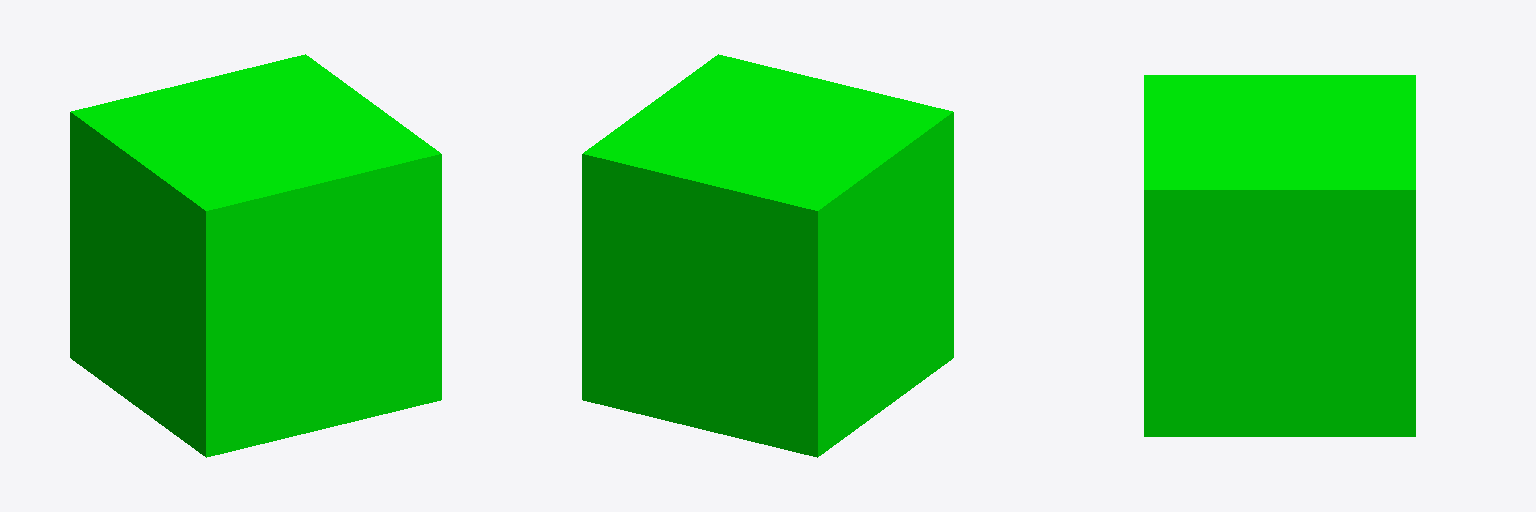
3 views of the same model, side by side, from view 1: azimuth 30°, elevation 25°; view 2: azimuth 150°, elevation 25°; view 3: azimuth 270°, elevation 25° (orthographic).
Visible parts, largest first — view 1: Cube; view 2: Cube; view 3: Cube.
Part boxes in pixels (left/top/right/bottom): Cube: left=70, top=54, right=441, bottom=457; Cube: left=582, top=54, right=953, bottom=457; Cube: left=1144, top=75, right=1415, bottom=436.
Size of the model in its own units: 2 by 2 by 2.
1 materials, 1 textured.